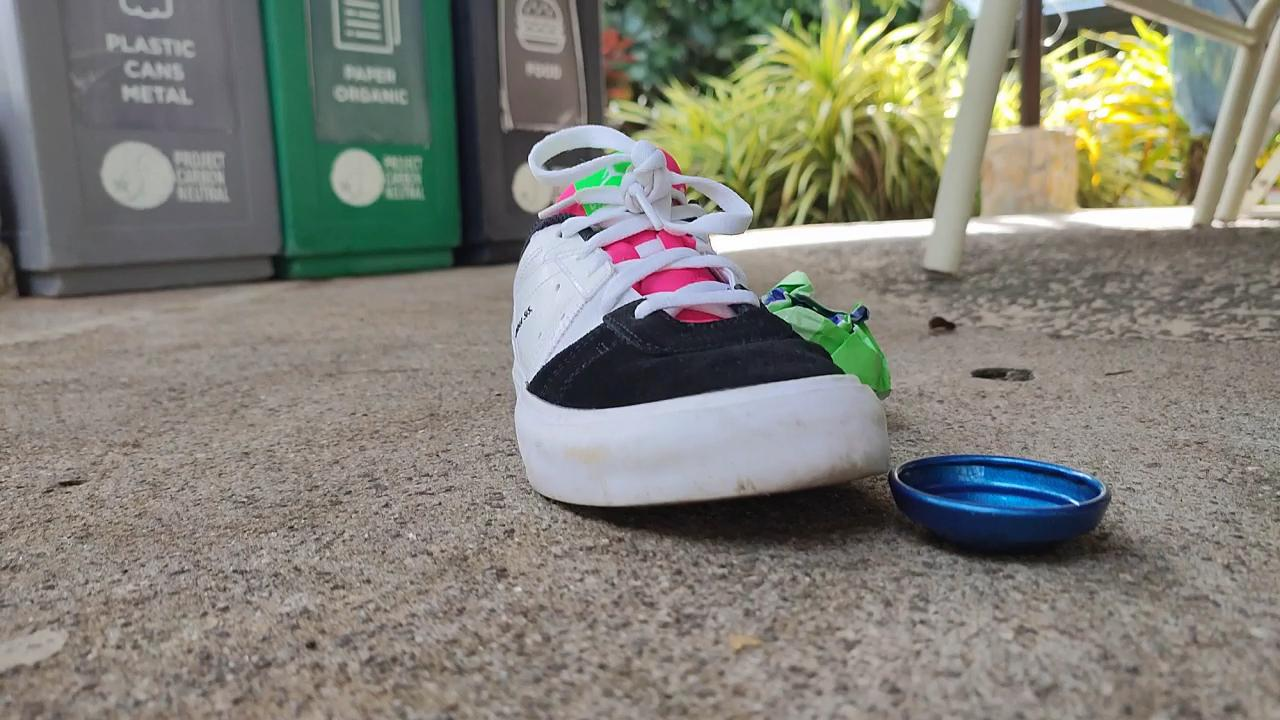Paper: (751, 250, 896, 408)
